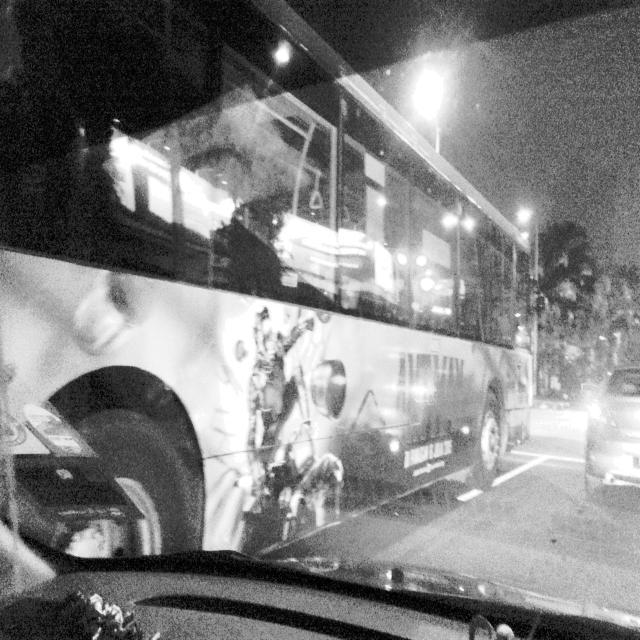Bus: (1, 0, 560, 532)
Car: (580, 337, 640, 522)
